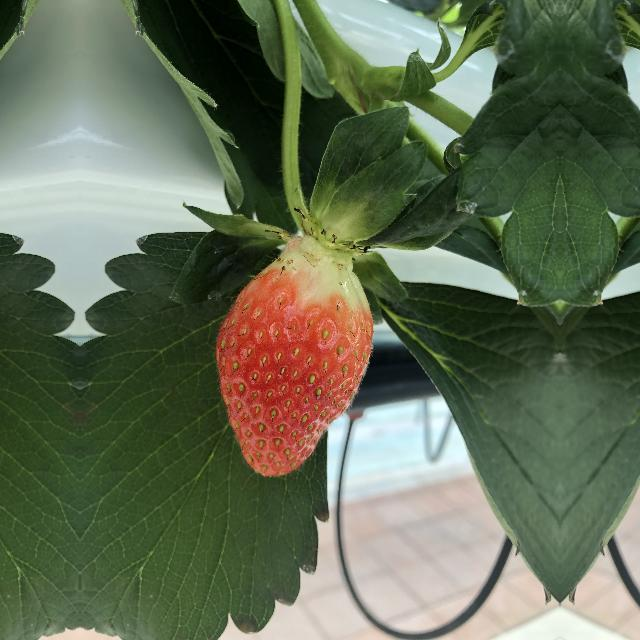Health_100: (210, 226, 374, 484)
